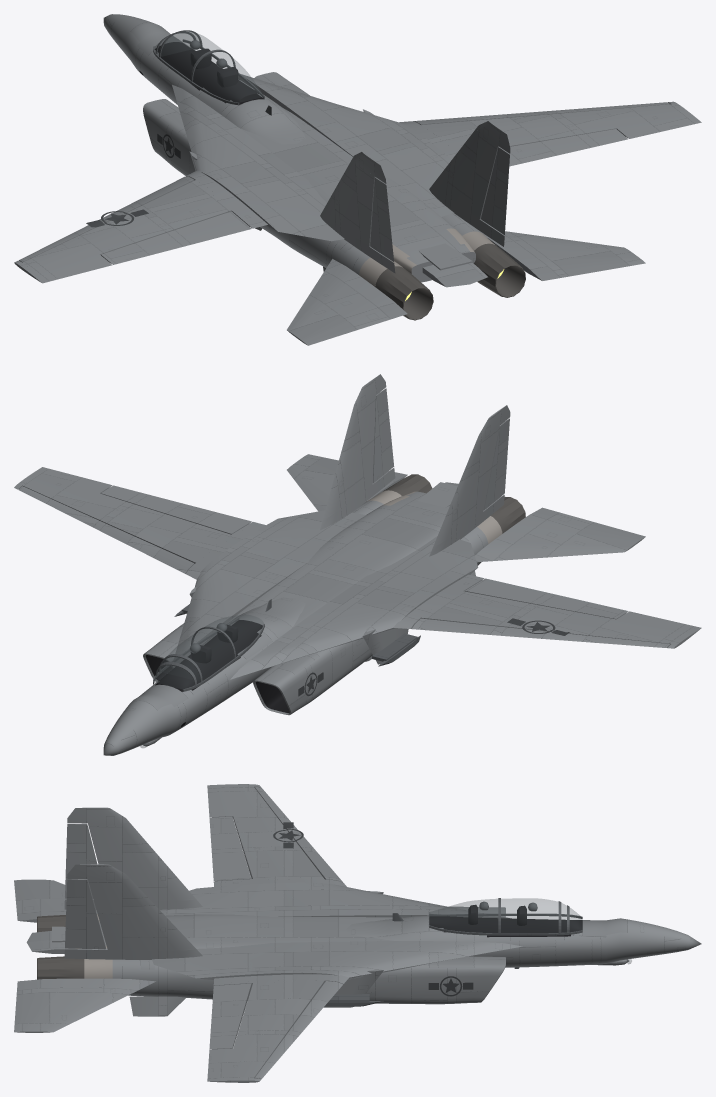
3 renders of one model, top to bottom at view 1: azimuth 30°, elevation 25°; view 2: azimuth 150°, elevation 25°; view 3: azimuth 270°, elevation 25°, orthographic. The views are drawn at different scales.
Parts seen in each view (by area): view 1: body, wing_L, wing_R, elevator_L, elevator_R, canopy, flap_L, flap_R, rudder_R, rudder_L, flap_le_L, flap_le_R (+1 smaller); view 2: body, wing_L, wing_R, elevator_L, canopy, flap_L, flap_R, flap_le_L, elevator_R, flap_le_R, rudder_R, rudder_L (+1 smaller); view 3: body, wing_R, wing_L, elevator_R, canopy, rudder_R, flap_R, flap_L, elevator_L, flap_le_R, rudder_L, flap_le_L.
Part boxes in pixels (x1,y1,x2,y2): body: [103, 14, 525, 320]; wing_L: [14, 170, 267, 283]; wing_R: [399, 101, 701, 159]; elevator_L: [287, 259, 407, 345]; elevator_R: [481, 231, 645, 280]; canopy: [159, 31, 264, 105]; flap_L: [101, 211, 251, 264]; flap_R: [505, 129, 627, 166]; rudder_R: [481, 147, 509, 234]; rudder_L: [370, 177, 393, 261]; flap_le_L: [19, 176, 194, 262]; flap_le_R: [413, 102, 669, 124]; body: [103, 374, 525, 755]; wing_L: [393, 574, 701, 648]; wing_R: [14, 467, 265, 579]; elevator_L: [475, 507, 645, 562]; canopy: [160, 614, 264, 683]; flap_L: [465, 578, 628, 619]; flap_R: [101, 485, 251, 534]; flap_le_L: [412, 618, 670, 647]; elevator_R: [287, 454, 407, 511]; flap_le_R: [19, 486, 194, 573]; rudder_R: [373, 388, 394, 482]; rudder_L: [483, 418, 509, 510]; body: [26, 807, 701, 1016]; wing_R: [207, 974, 348, 1082]; wing_L: [207, 784, 346, 886]; elevator_R: [14, 978, 155, 1032]; canopy: [429, 898, 559, 935]; rudder_R: [65, 879, 105, 949]; flap_R: [209, 983, 251, 1049]; flap_L: [209, 816, 251, 881]; elevator_L: [14, 879, 97, 922]; flap_le_R: [255, 981, 342, 1078]; rudder_L: [65, 823, 97, 898]; flap_le_L: [254, 787, 342, 882].
Size of the model in its own units: 19.42 by 4.59 by 19.05.
Materials: 8 (2 with a texture image).
